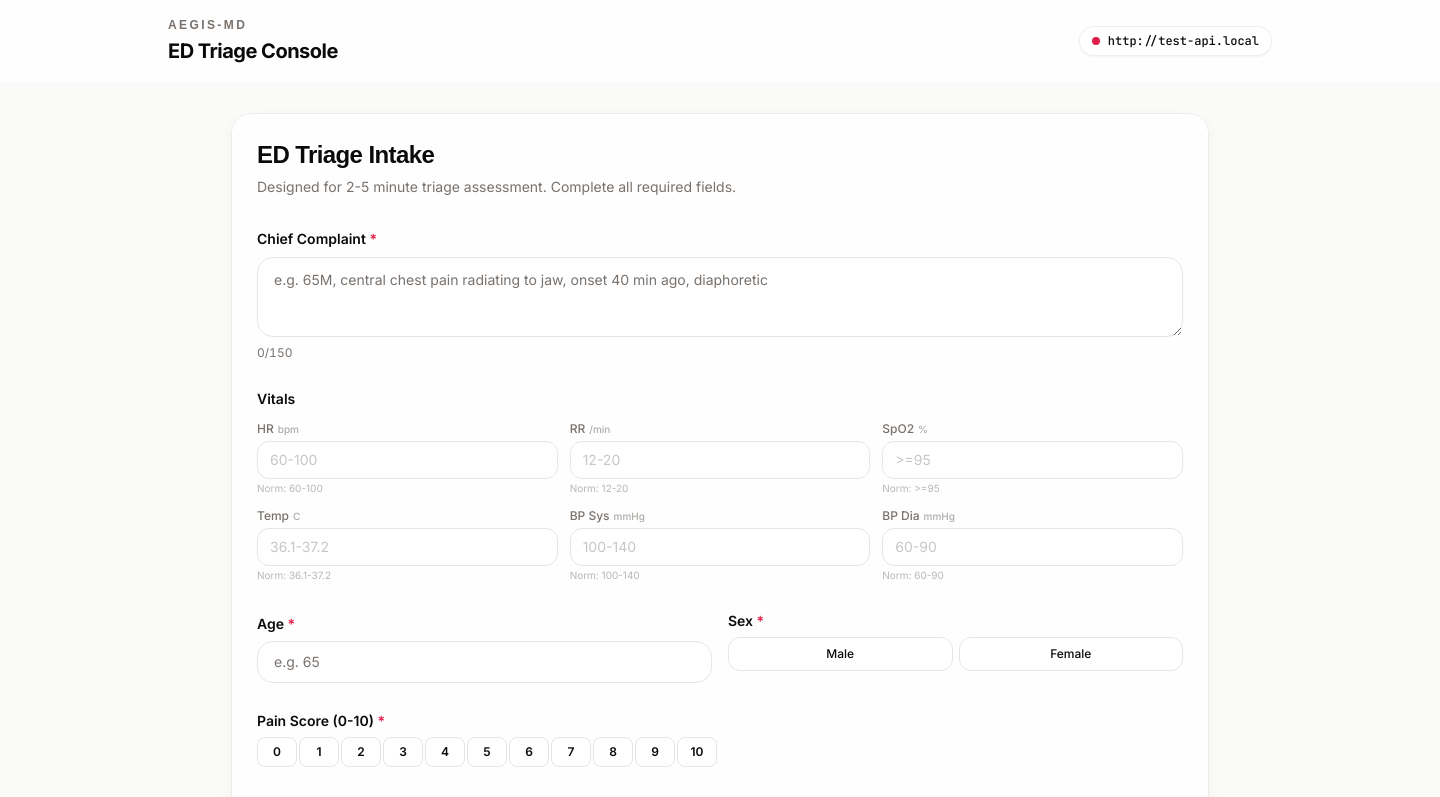
Test: Shell component › submits form and displays response
Type "I have chest pain" into the text box labelled "Chief Complaint *".
click(720, 297); type("I have chest pain")  # box [257,257,1183,337]
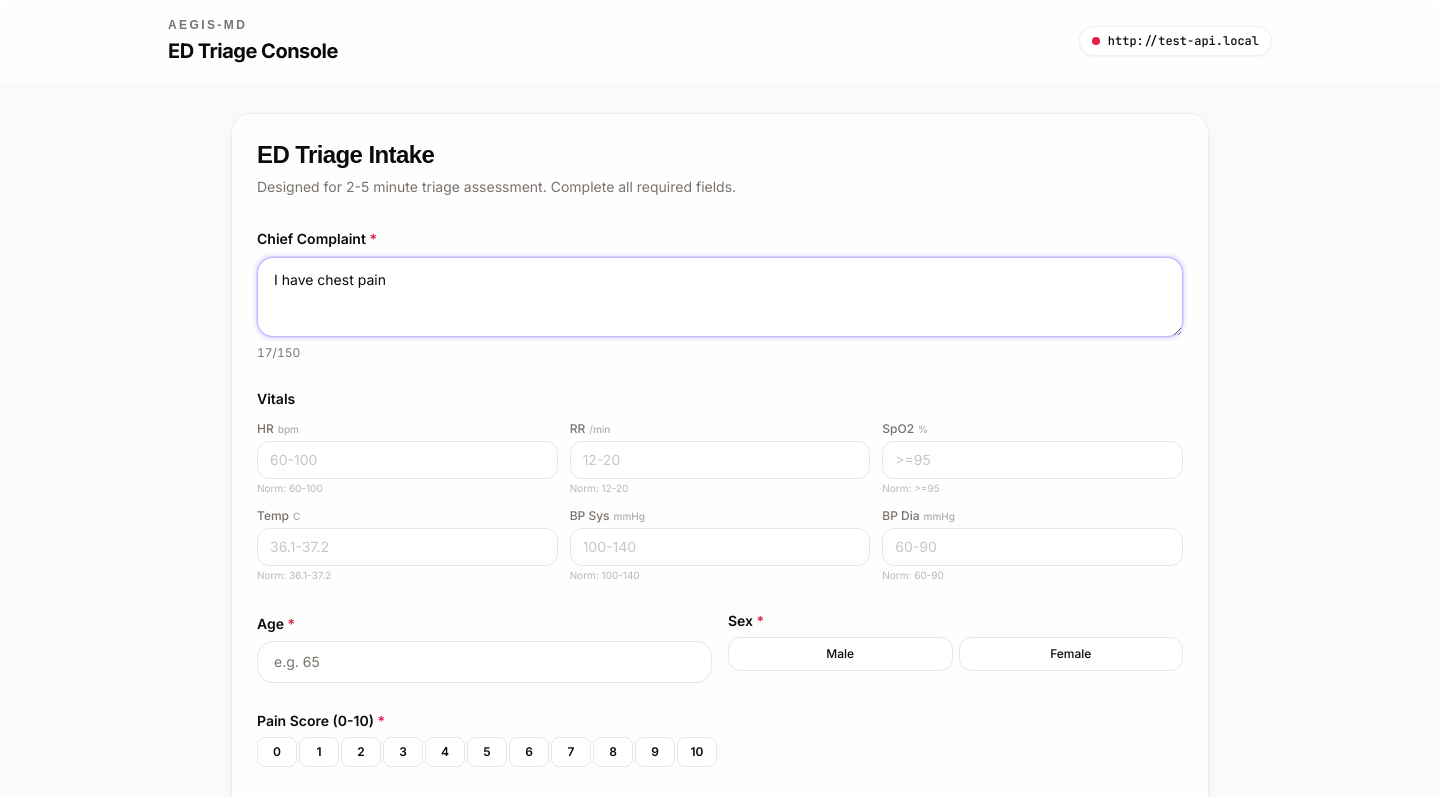
Type "65" into the number field with placeholder "e.g. 65".
click(484, 662); type("65")  # box [257,641,712,683]
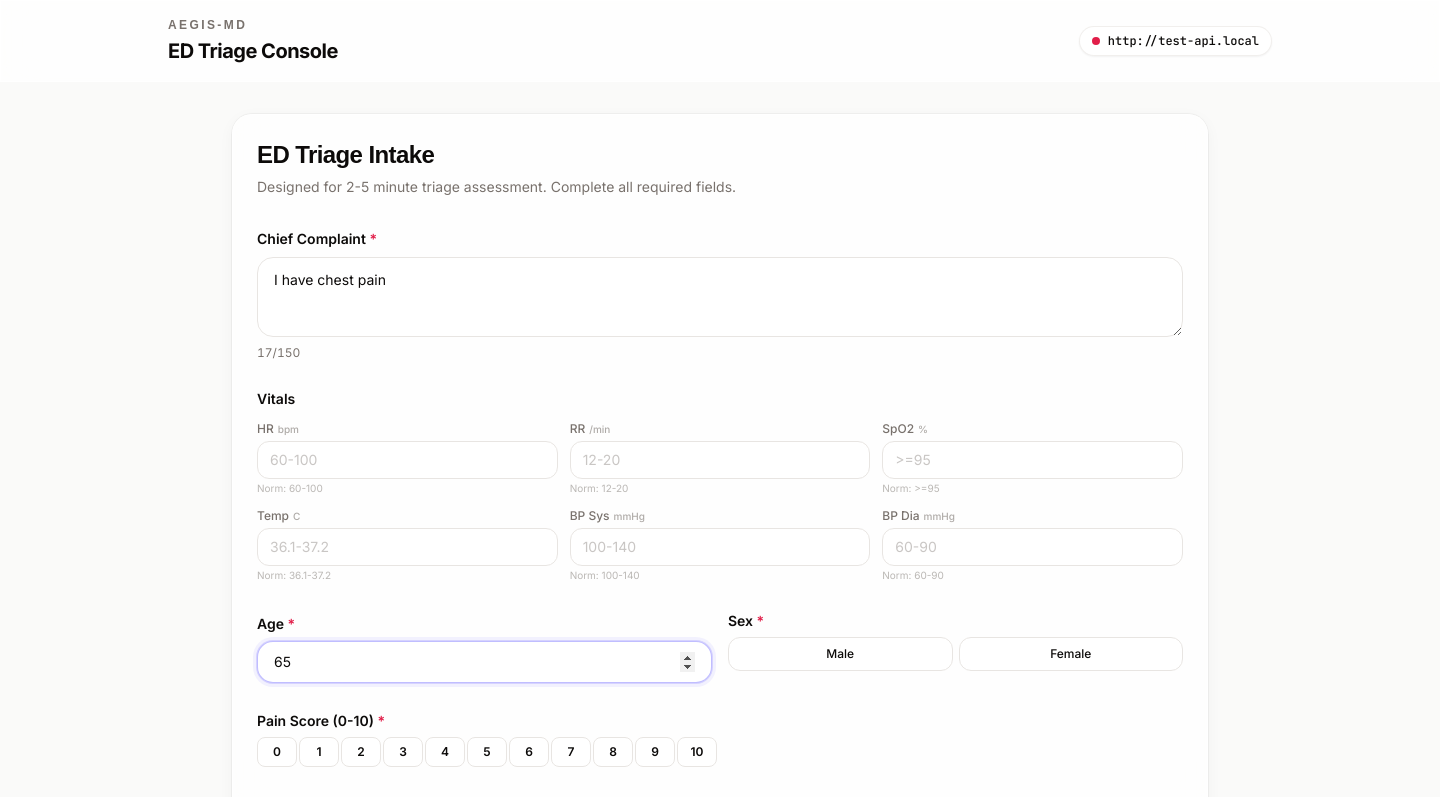
// Select sex (male button)
Click the button "Male".
click(840, 654)  # box [728,637,952,671]
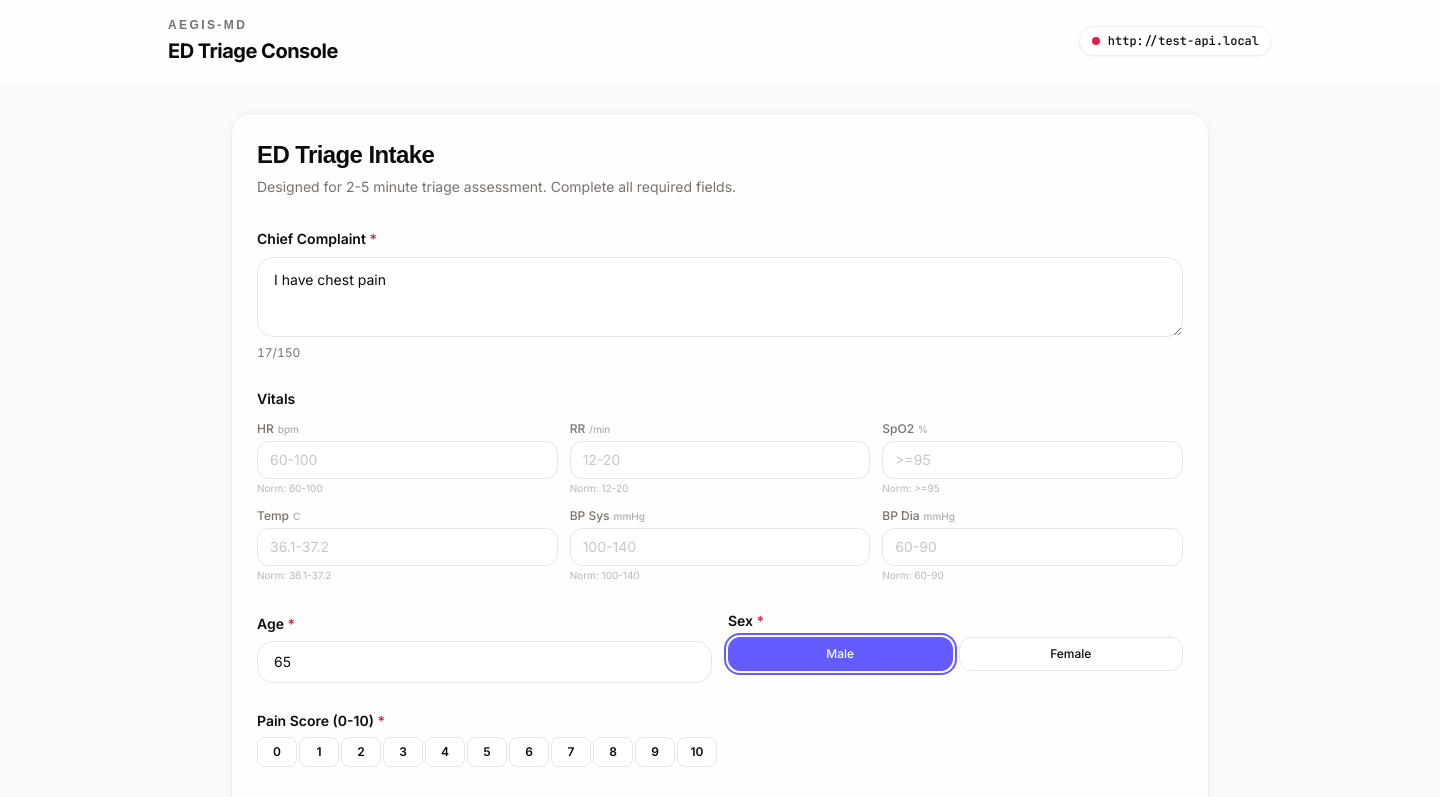
// Select pain score
Click the button "7".
click(571, 752)  # box [551,737,591,767]
(page scrolled)
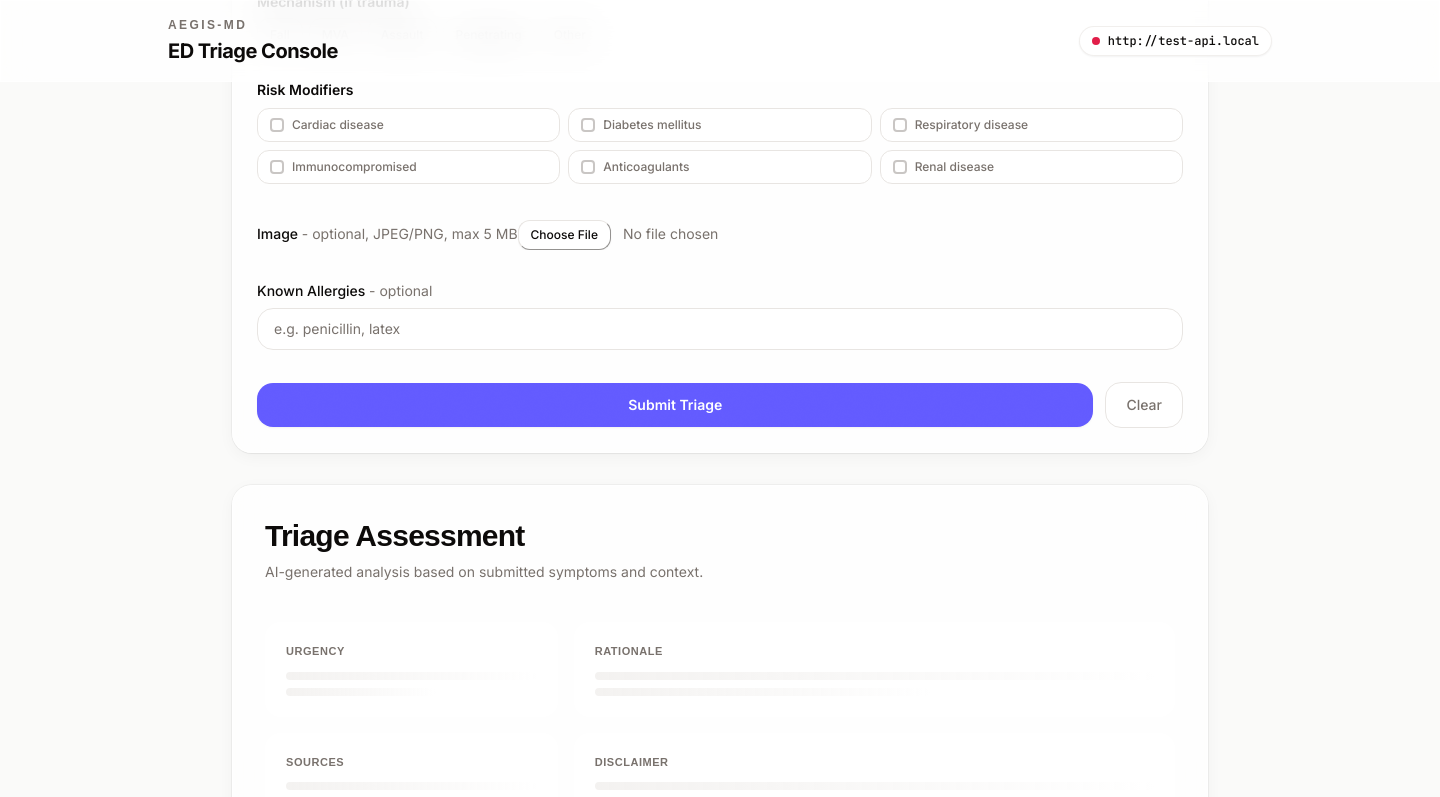
Click the button "Submit Triage".
click(675, 405)  # box [257,383,1094,427]
(page scrolled)
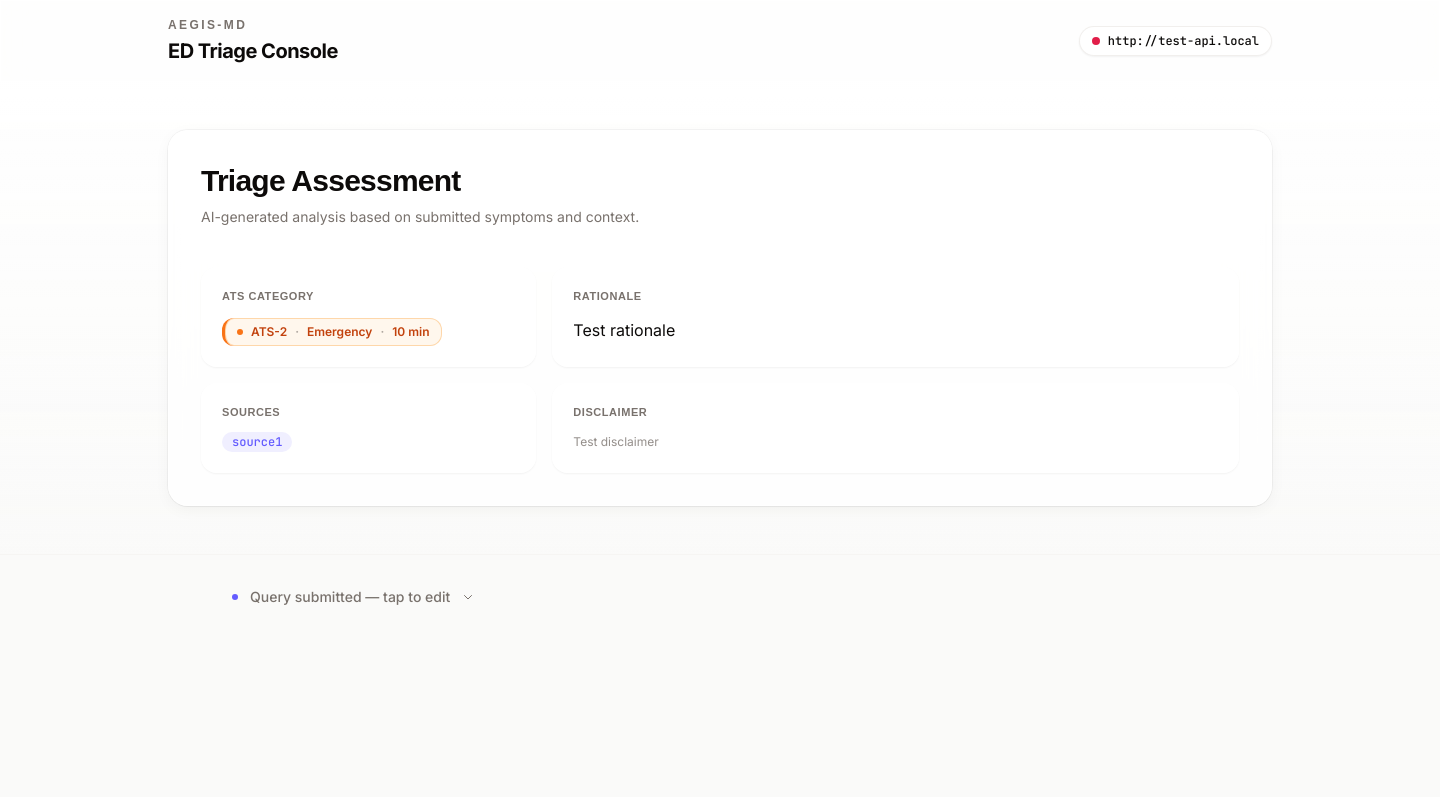
Expected: the text "ATS Category" is shown, [222,290,314,302]
Expected: the text "Test rationale" is shown, [573,320,675,340]
